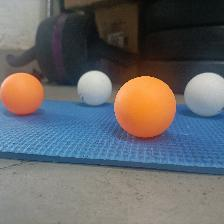WhiteBall: (184, 71, 224, 116), (76, 70, 111, 105)
YellowBall: (114, 75, 176, 137), (0, 72, 43, 114)
